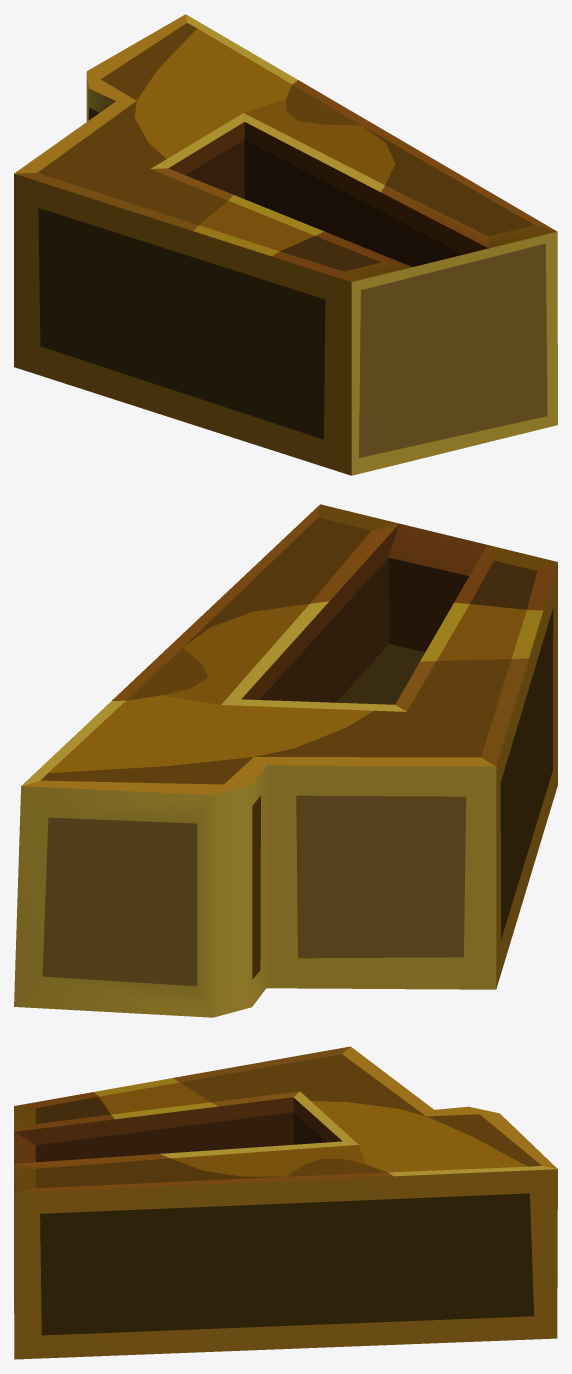
Rendered from PenglantisArchwayGoldC.fbx.
3 views of the same model, one above another, from view 1: azimuth 30°, elevation 25°; view 2: azimuth 150°, elevation 25°; view 3: azimuth 270°, elevation 25° (orthographic). The views are drawn at different scales.
Visible parts, largest first — view 1: MARK4STATIC_PenglantisArchwayGoldC; view 2: MARK4STATIC_PenglantisArchwayGoldC; view 3: MARK4STATIC_PenglantisArchwayGoldC.
Part boxes in pixels (box(x1,y1,x2,y2)): MARK4STATIC_PenglantisArchwayGoldC: box(14, 14, 557, 475); MARK4STATIC_PenglantisArchwayGoldC: box(14, 504, 557, 1017); MARK4STATIC_PenglantisArchwayGoldC: box(14, 1046, 557, 1359).
Size of the model in its own units: 64.33 by 34.18 by 101.
